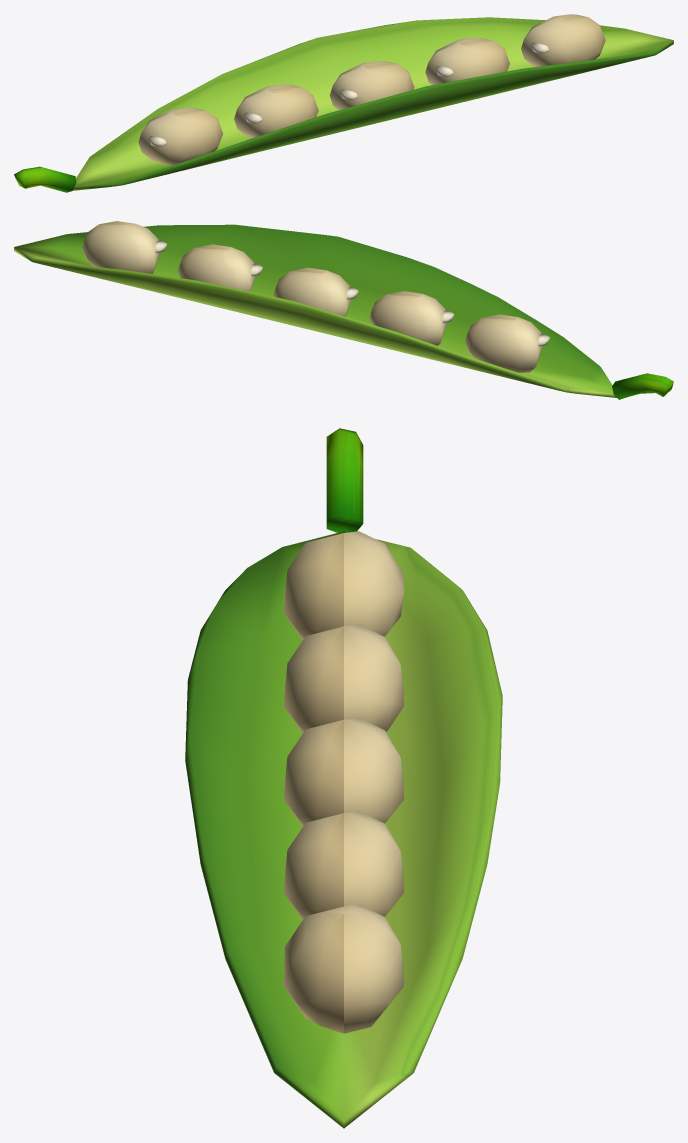
The model's file is NP_GreenBean_OpenPod_LOD1.fbx.
The picture shows the model from 3 angles, top to bottom: view 1: azimuth 30°, elevation 25°; view 2: azimuth 150°, elevation 25°; view 3: azimuth 270°, elevation 25°; orthographic projection. The views are drawn at different scales.
Parts seen in each view (by area): view 1: NP_GreenBean_OpenPod.001; view 2: NP_GreenBean_OpenPod.001; view 3: NP_GreenBean_OpenPod.001.
Boxes of the visible parts, x1,y1,x2,y2 form: NP_GreenBean_OpenPod.001: (14,14,673,192); NP_GreenBean_OpenPod.001: (14,221,673,399); NP_GreenBean_OpenPod.001: (185,428,502,1128).
Bounding box in the file's own units: 39.2 × 3.18 × 8.2.
